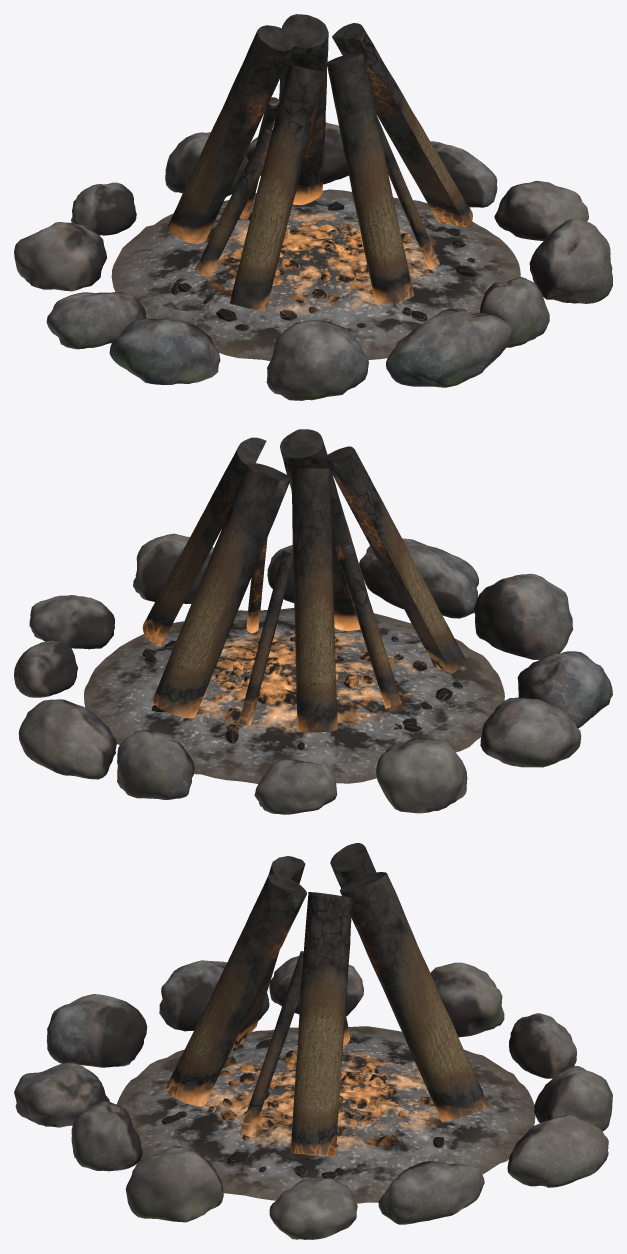
Rendered from corner_camp_fire.glb.
The picture shows the model from 3 angles, top to bottom: view 1: azimuth 30°, elevation 25°; view 2: azimuth 150°, elevation 25°; view 3: azimuth 270°, elevation 25°; orthographic projection. The views are drawn at different scales.
Visible parts, largest first — view 1: FireStones, FireLogs, FireAsh; view 2: FireStones, FireLogs, FireAsh; view 3: FireStones, FireLogs, FireAsh.
Boxes of the visible parts, x1,y1,x2,y2 form: FireStones: [14, 122, 612, 400]; FireLogs: [168, 14, 472, 311]; FireAsh: [111, 189, 520, 361]; FireStones: [14, 533, 612, 814]; FireLogs: [142, 429, 465, 732]; FireAsh: [84, 608, 504, 783]; FireStones: [14, 956, 612, 1239]; FireLogs: [165, 843, 488, 1156]; FireAsh: [116, 1026, 535, 1203].
Bounding box in the file's own units: 1.22 × 0.5517 × 1.17.
3 materials, 3 textured.
